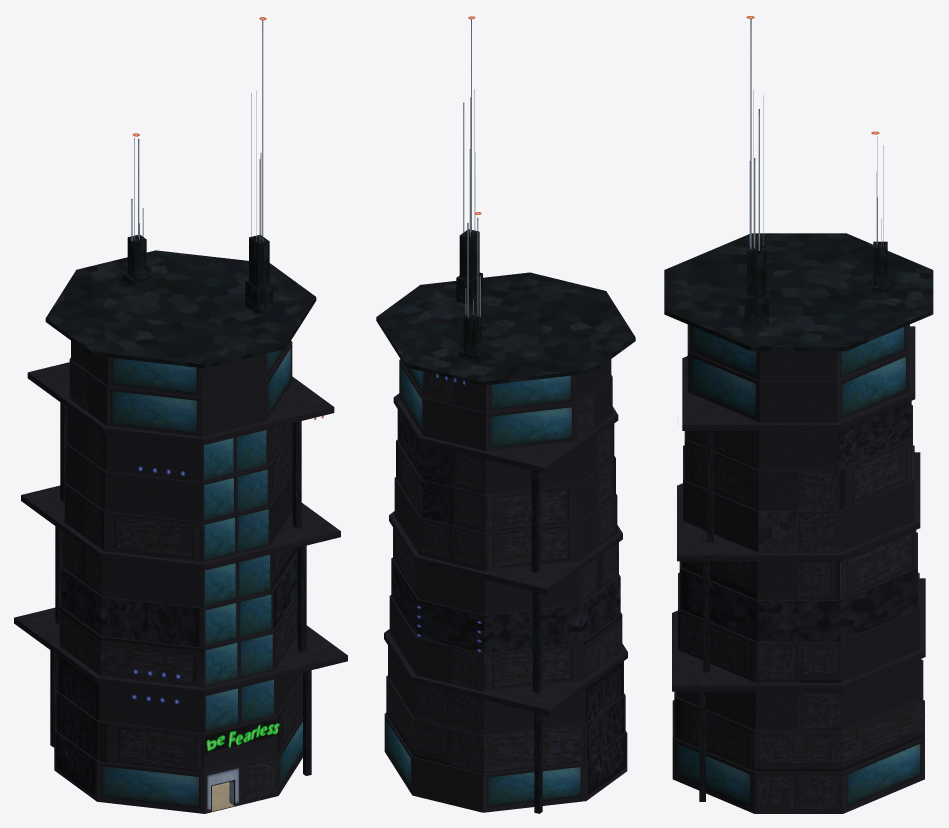
File: bdoct11s.DAE
3 renders of one model, left to right at view 1: azimuth 30°, elevation 25°; view 2: azimuth 150°, elevation 25°; view 3: azimuth 270°, elevation 25°, orthographic. The views are drawn at different scales.
Parts seen in each view (by area): view 1: LoweHalf-Pivot, Box01, Box02-Pivot; view 2: LoweHalf-Pivot, Box01; view 3: LoweHalf-Pivot, Box01.
Boxes of the visible parts, bbox=[...] form: LoweHalf-Pivot: bbox=[14, 20, 347, 813]; Box01: bbox=[103, 348, 302, 806]; Box02-Pivot: bbox=[132, 17, 323, 751]; LoweHalf-Pivot: bbox=[376, 19, 635, 813]; Box01: bbox=[386, 366, 580, 805]; LoweHalf-Pivot: bbox=[664, 19, 933, 813]; Box01: bbox=[677, 327, 920, 804].
Bounding box in the file's own units: 36.44 × 115 × 36.62.
2 materials, 2 textured.
